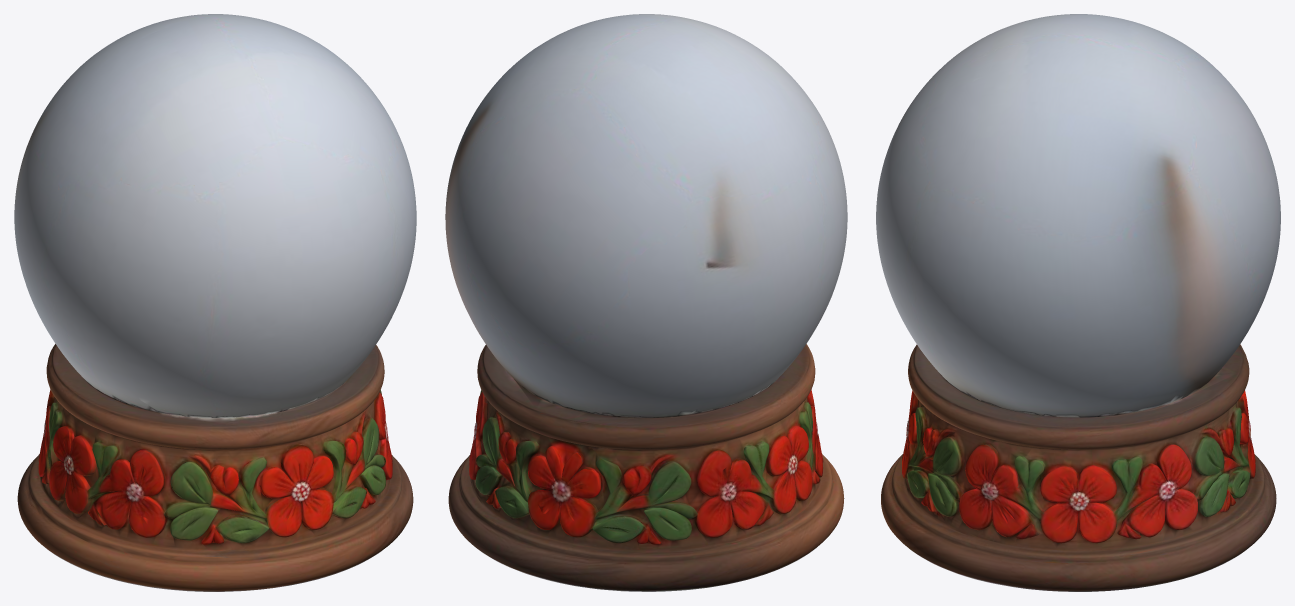
File: snowglobe.glb
3 renders of one model, left to right at view 1: azimuth 30°, elevation 25°; view 2: azimuth 150°, elevation 25°; view 3: azimuth 270°, elevation 25°, orthographic.
Visible parts, largest first — view 1: node_0; view 2: node_0; view 3: node_0.
Part boxes in pixels (x1=…): node_0: x1=14, y1=14, x2=416, y2=591; node_0: x1=445, y1=14, x2=847, y2=591; node_0: x1=876, y1=14, x2=1280, y2=591.
Bounding box in the file's own units: 0.7383 × 0.9724 × 0.7444.
Materials: 1 (1 with a texture image).
